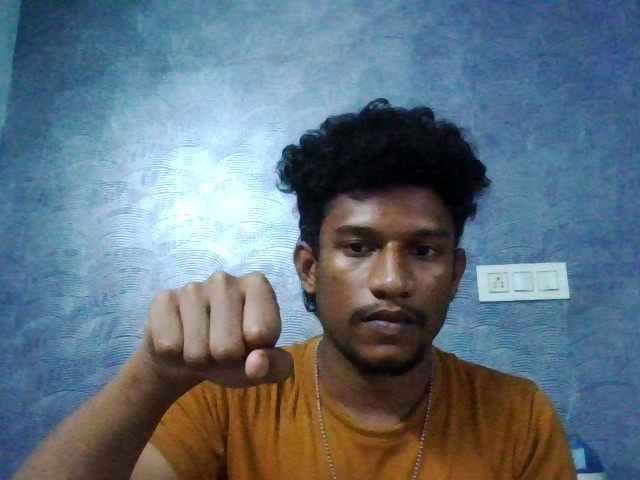yes: (121, 263, 305, 427)
